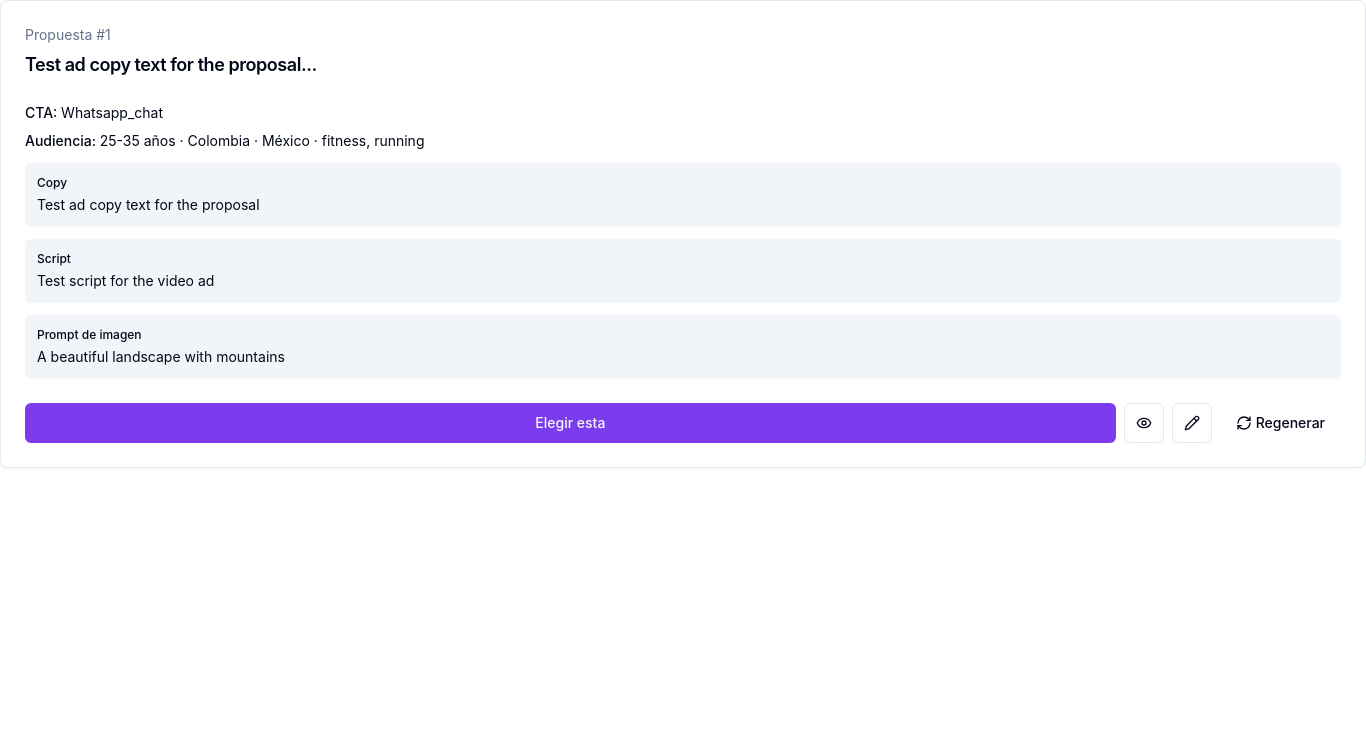
Test: Proposal Editing › shows validation error when copy_text is empty
Click the button titled "Editar".
click(1192, 423)  # box x1=1172 y1=403 x2=1212 y2=443
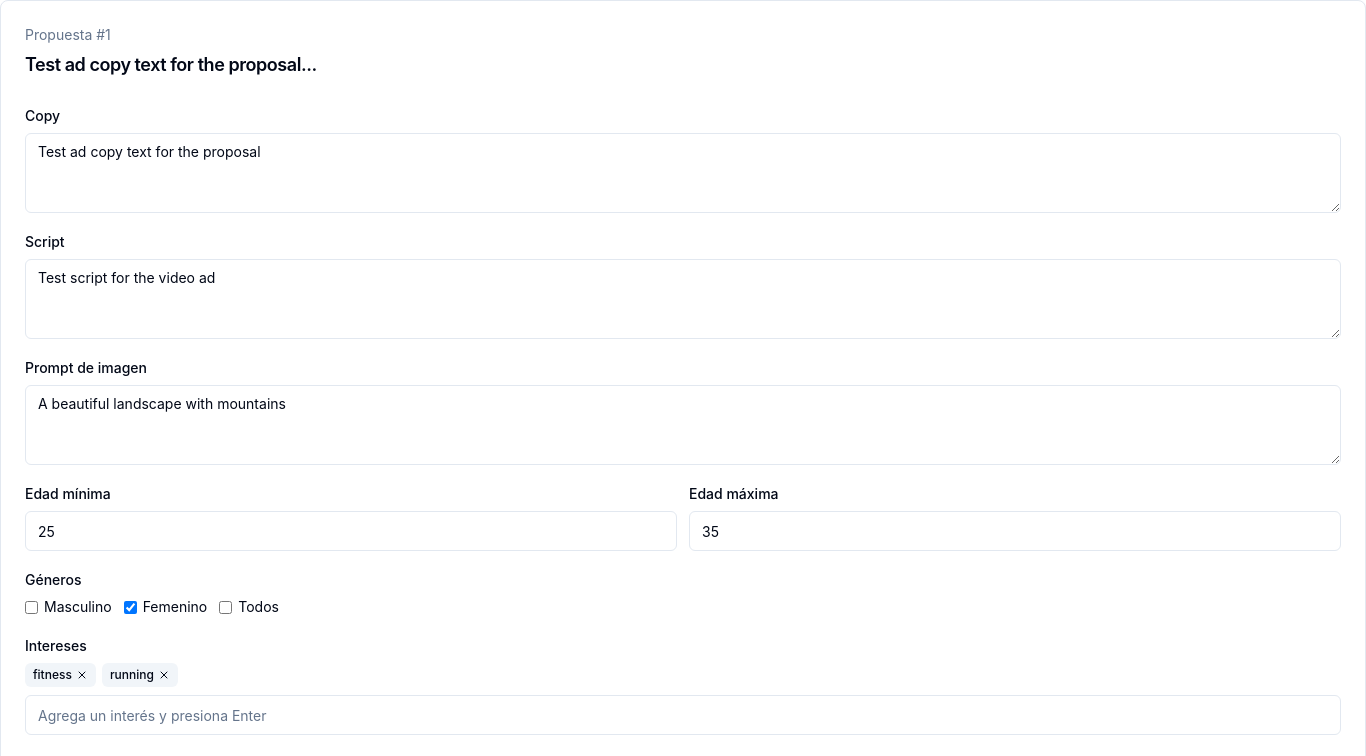
Clear the text box labelled "Copy" at x=683, y=173, box x1=25 y1=133 x2=1341 y2=213
(page scrolled)
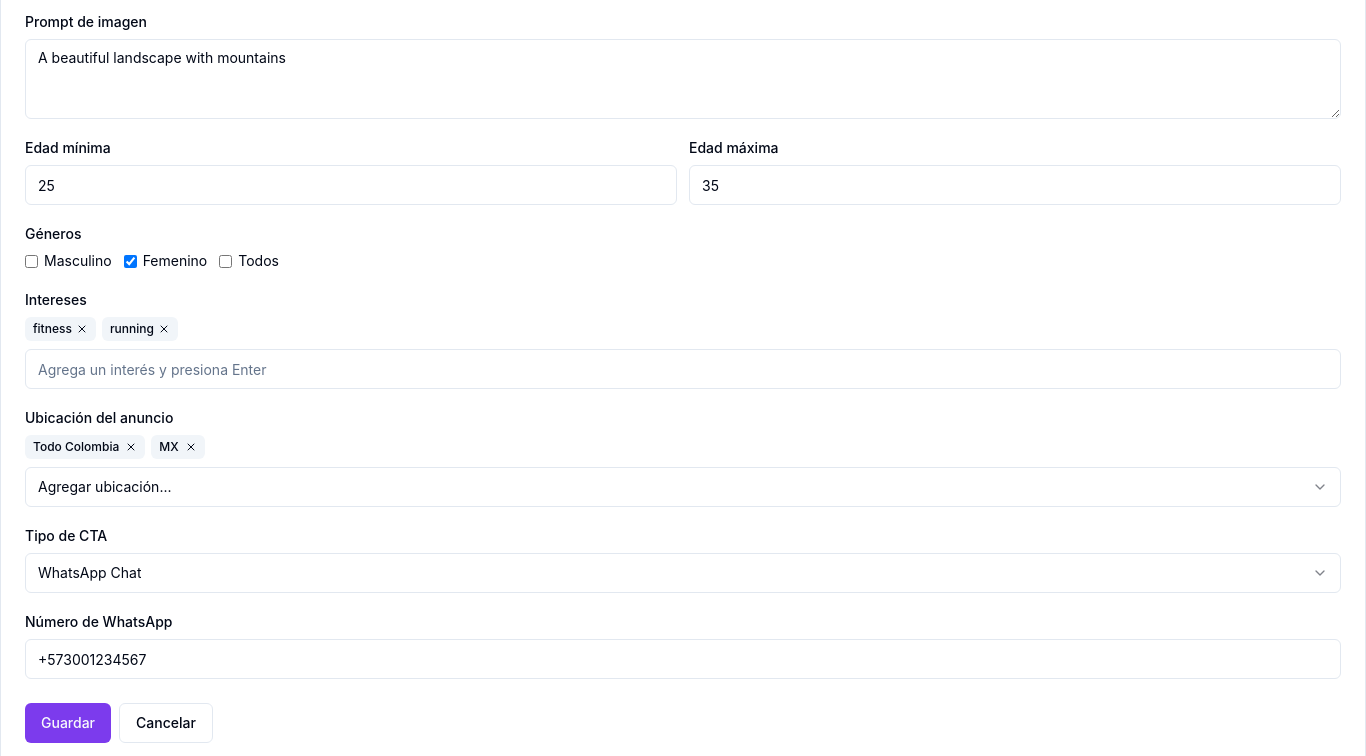
Click the button "Guardar".
click(68, 723)  # box x1=25 y1=703 x2=111 y2=743
(page scrolled)
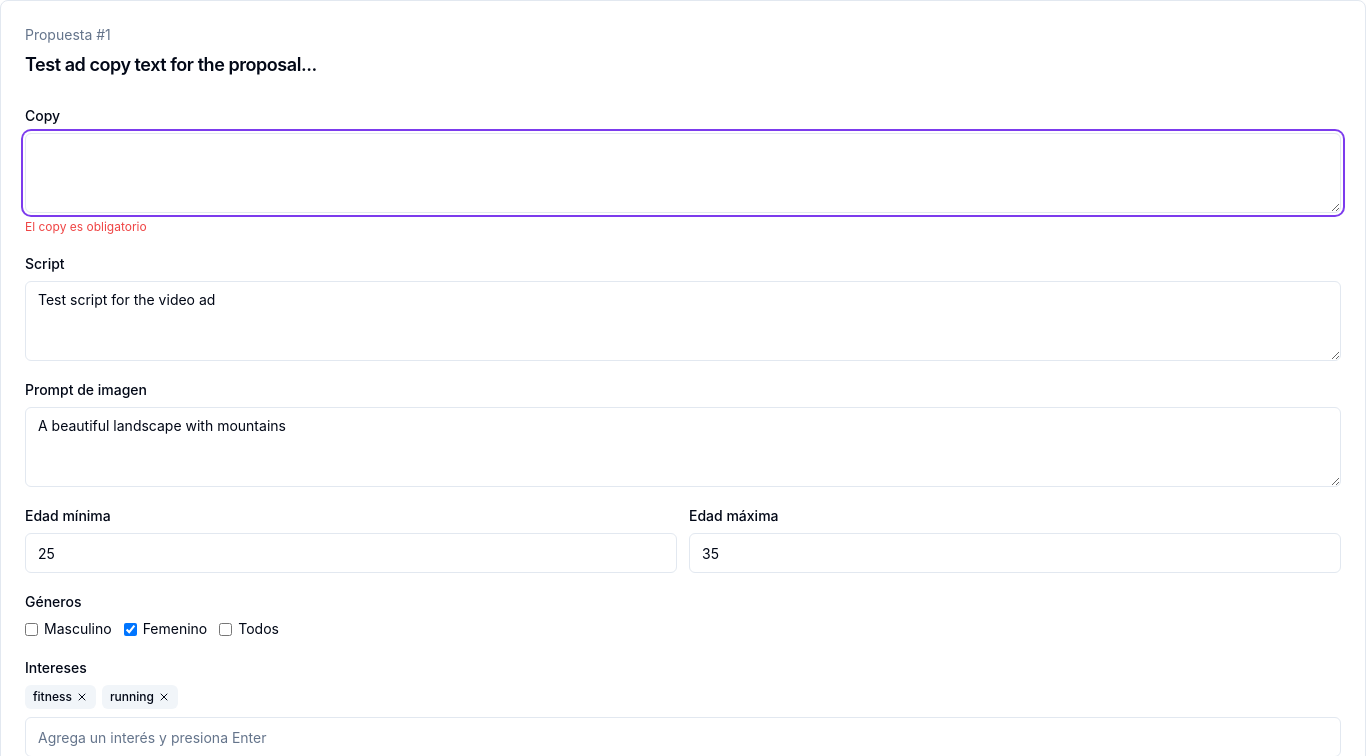
Now the text "El copy es obligatorio" is shown, box x1=25 y1=219 x2=147 y2=234
